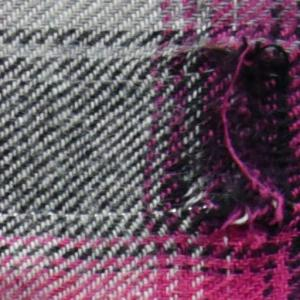Damage: (165, 31, 300, 250)
